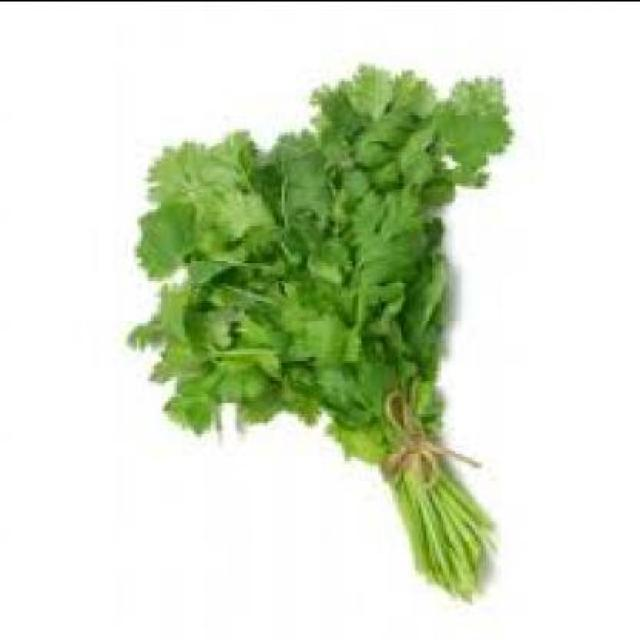BIODEGRADABLE: (122, 59, 501, 598)
